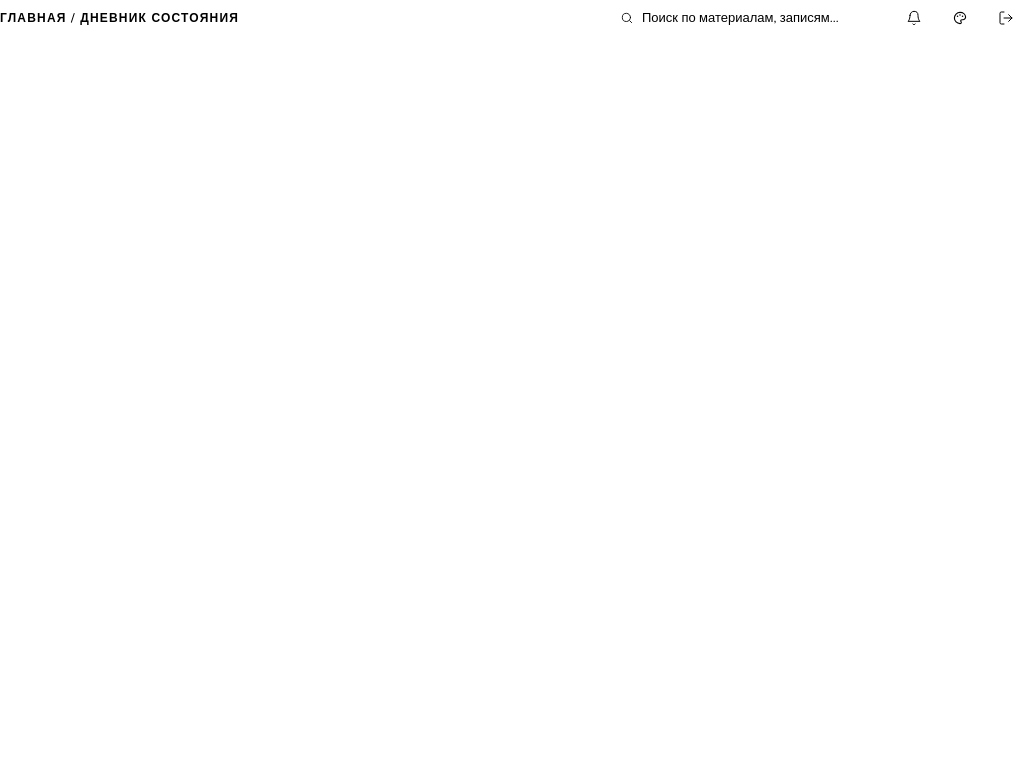
CabinetHeader › «Оформление» открывает одну панель: тема, палитра и существующий A11yToggle
The image size is (1024, 768).
Click the button named "Оформление и версия для слабовидящих". click: [960, 18]
box: x1=942 y1=0 x2=978 y2=36
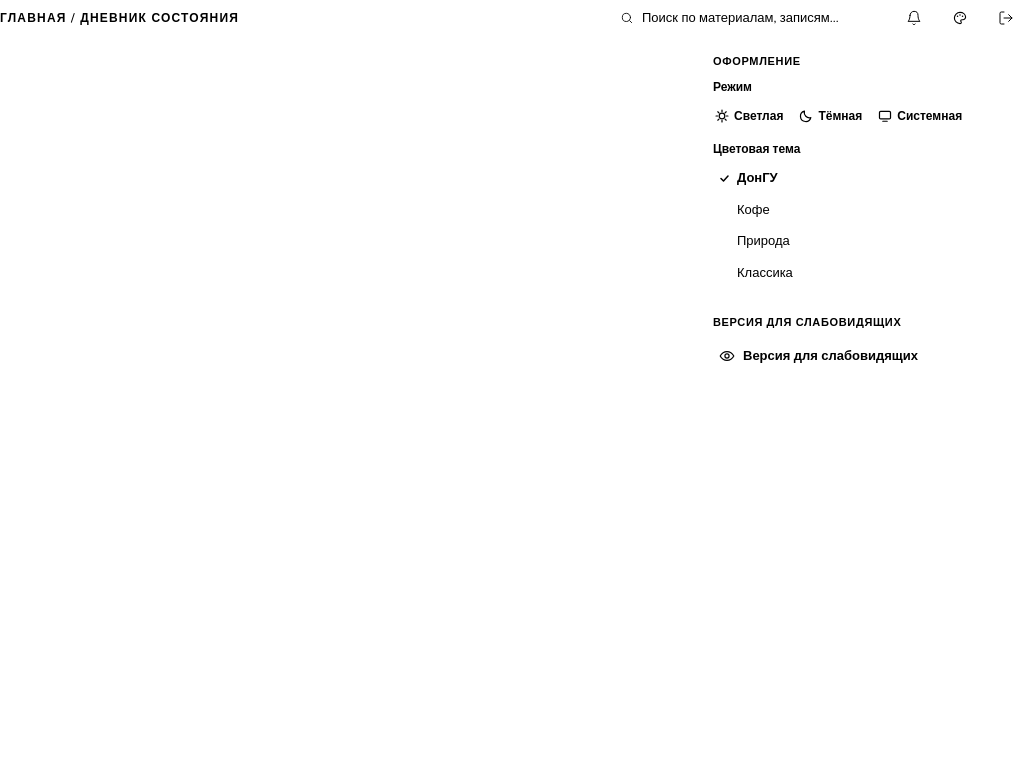
Result: the element named "Режим темы оформления" is shown at x1=709 y1=101 x2=968 y2=131
Result: the element named "Цветовая тема" is shown at x1=709 y1=163 x2=968 y2=289
